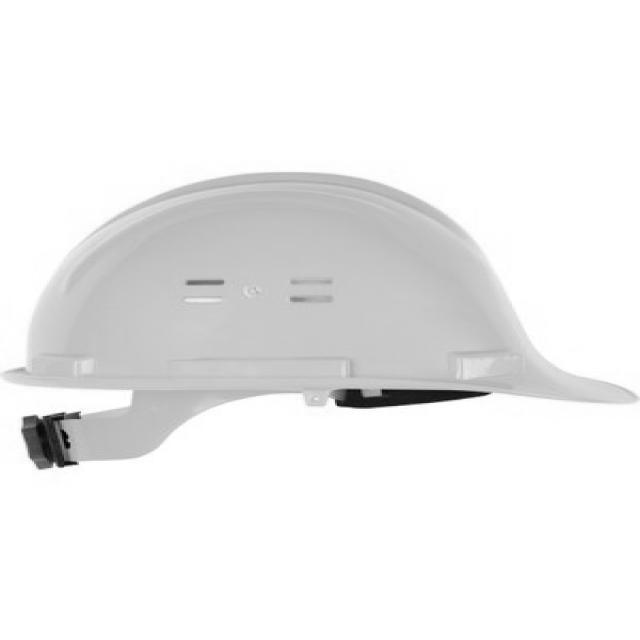safety_helmet: (2, 173, 640, 471)
